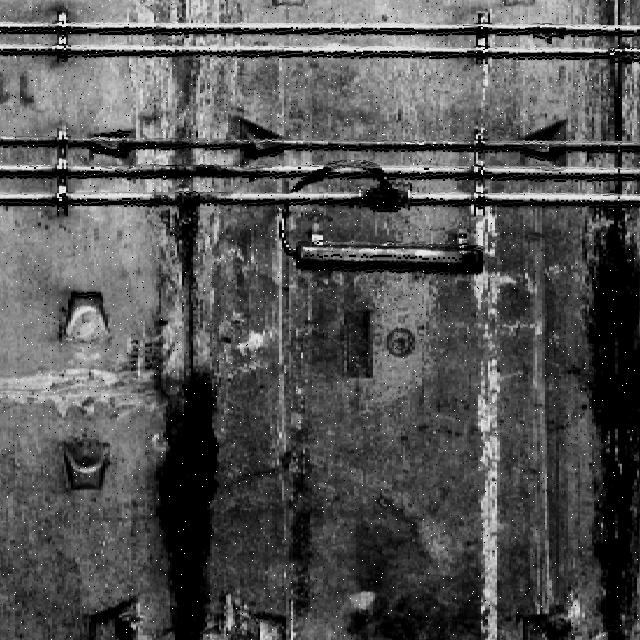leakage: (147, 5, 227, 640), (576, 1, 640, 640)
